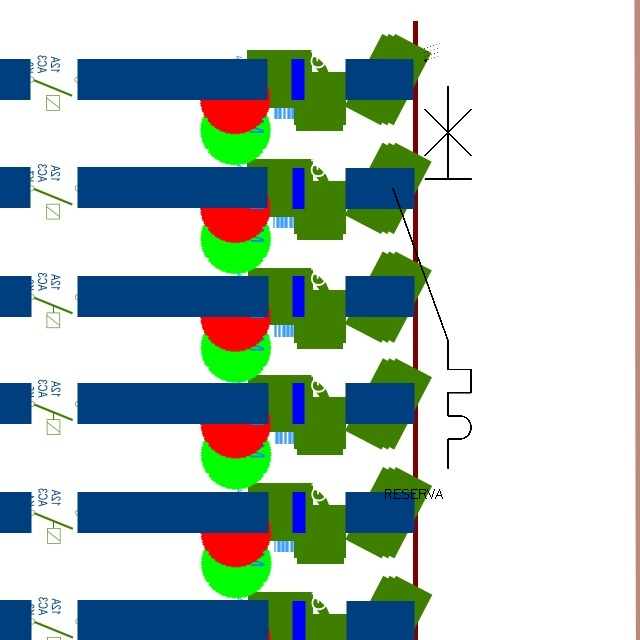interruptor_termomagnetico: (383, 76, 481, 478)
